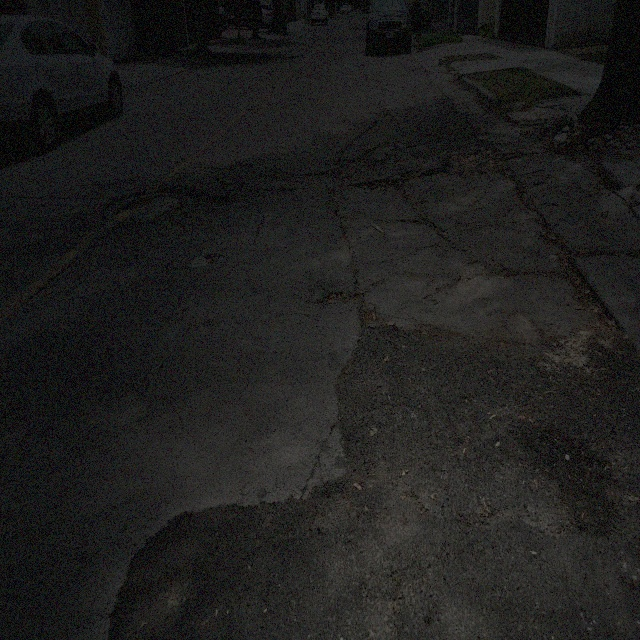pothole: (562, 245, 622, 331), (442, 146, 512, 174), (353, 166, 417, 194), (354, 292, 376, 330), (185, 250, 217, 269), (119, 194, 152, 210), (211, 194, 231, 209)
